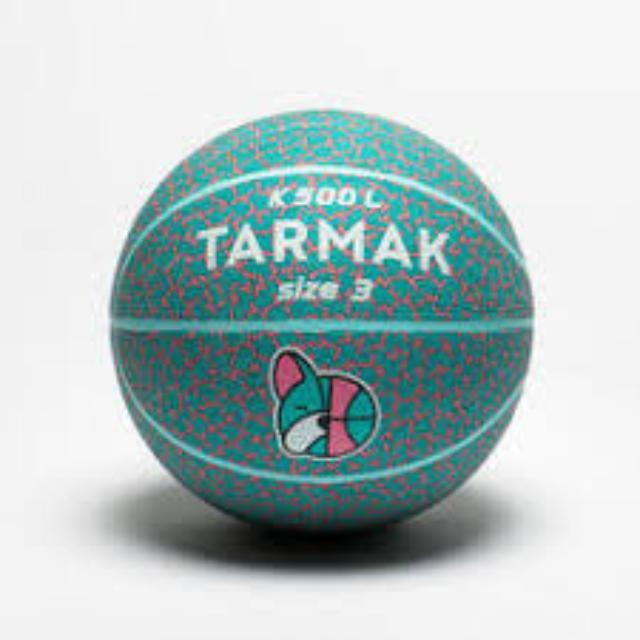basketball: (110, 112, 534, 530)
